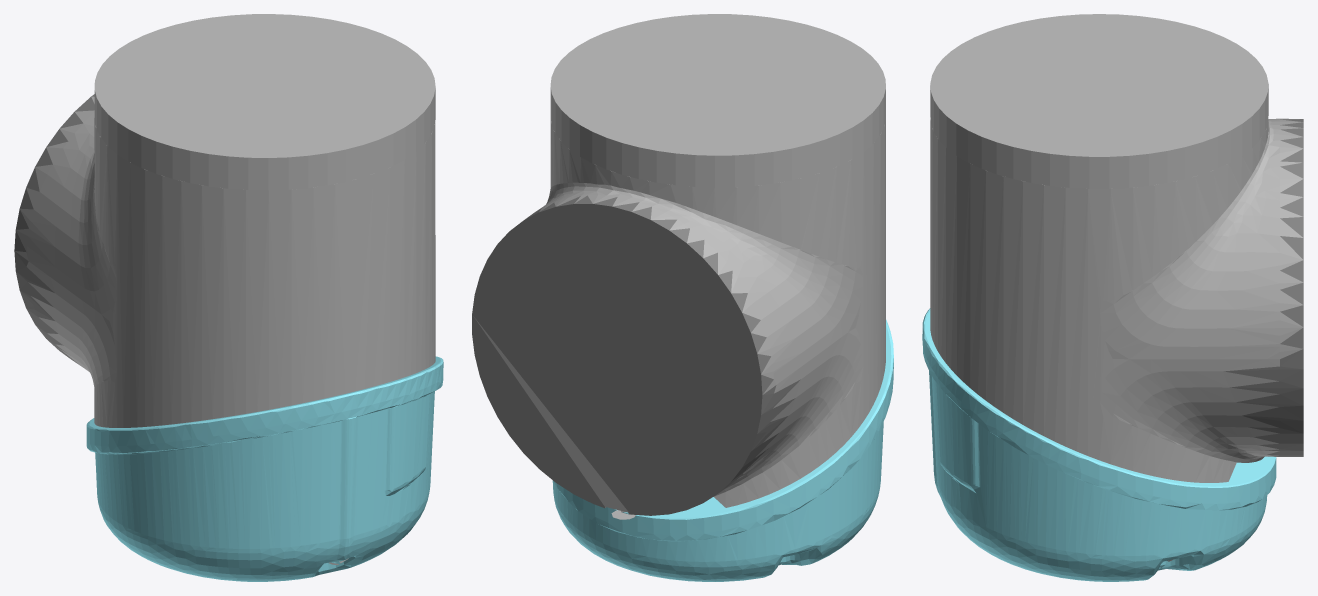
Rendered from UR5eLink5.dae.
3 views of the same model, side by side, from view 1: azimuth 30°, elevation 25°; view 2: azimuth 150°, elevation 25°; view 3: azimuth 270°, elevation 25° (orthographic).
Visible parts, largest first — view 1: UR5eLink5; view 2: UR5eLink5; view 3: UR5eLink5.
Boxes of the visible parts, <box> form: UR5eLink5: <box>14,14,443,581</box>; UR5eLink5: <box>472,14,893,581</box>; UR5eLink5: <box>922,14,1303,581</box>.
Size of the model in its own units: 0.0785 by 0.0845 by 0.1083.
